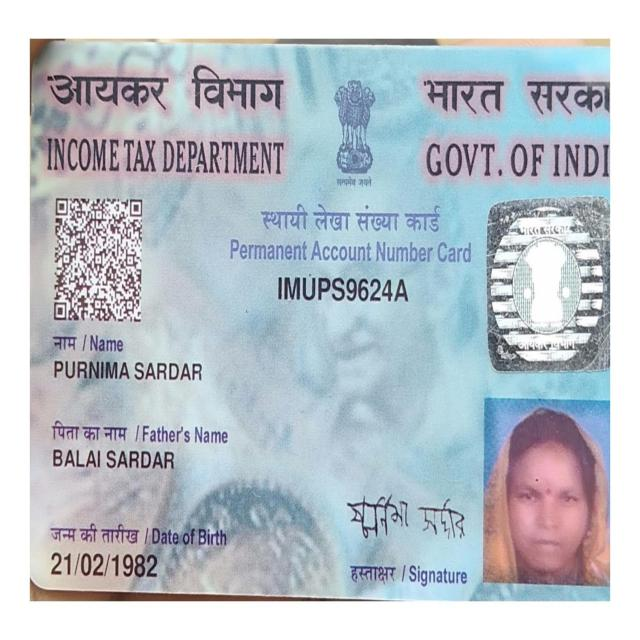pan_card: (31, 52, 610, 599)
